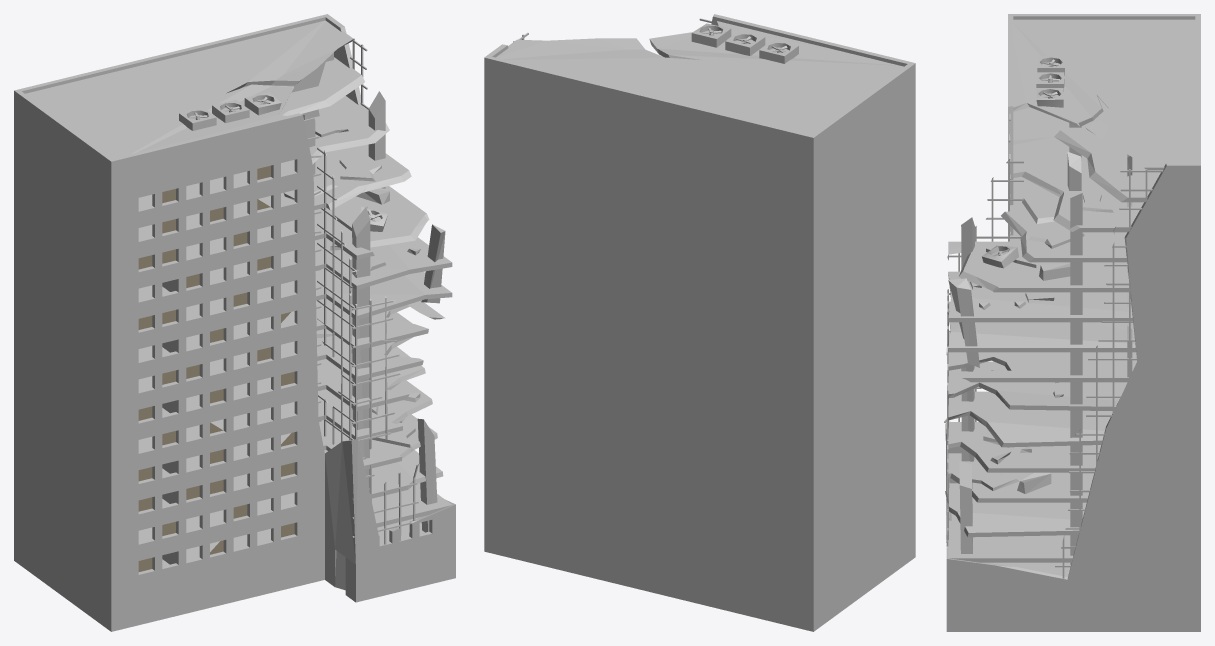
File: building.obj
The picture shows the model from 3 angles, left to right: view 1: azimuth 30°, elevation 25°; view 2: azimuth 150°, elevation 25°; view 3: azimuth 270°, elevation 25°; orthographic projection. The views are drawn at different scales.
Visible parts, largest first — view 1: Building_01; view 2: Building_01; view 3: Building_01.
Boxes of the visible parts, x1=… form: Building_01: x1=14, y1=14, x2=455, y2=631; Building_01: x1=484, y1=14, x2=915, y2=631; Building_01: x1=944, y1=14, x2=1200, y2=631.
Bounding box in the file's own units: 8.49 × 12.29 × 6.08.
